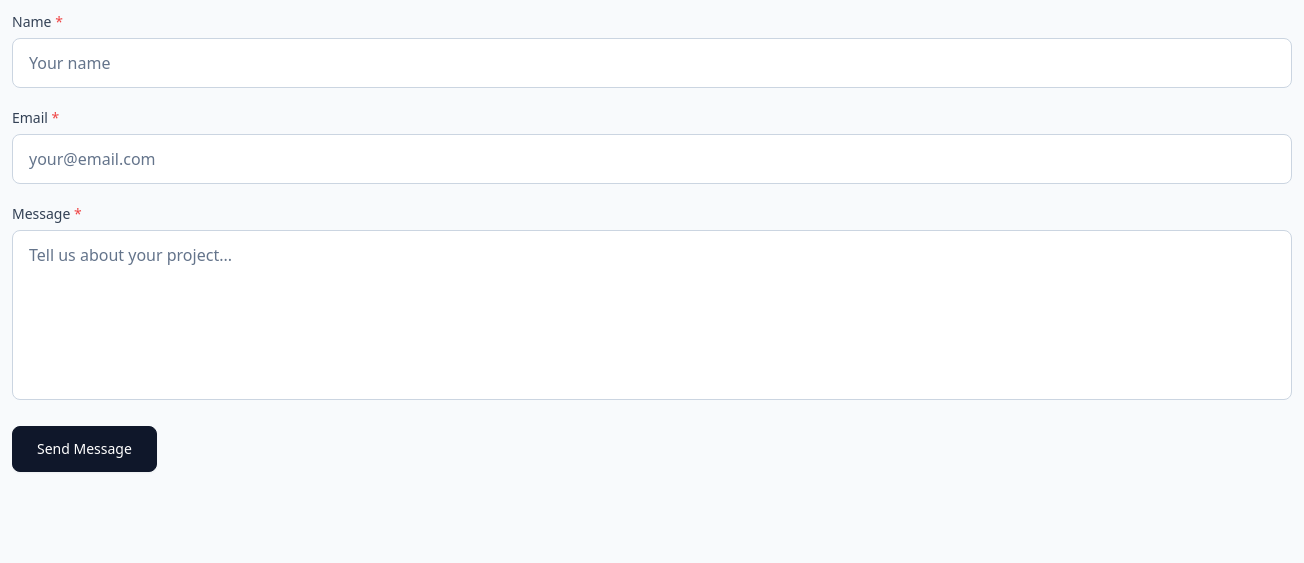
Test case: ContactForm › tracks a successful contact only after the API accepts it
In the field labelled "Name *": x=652, y=63 x1=12 y1=38 x2=1292 y2=88, type "Test Name"
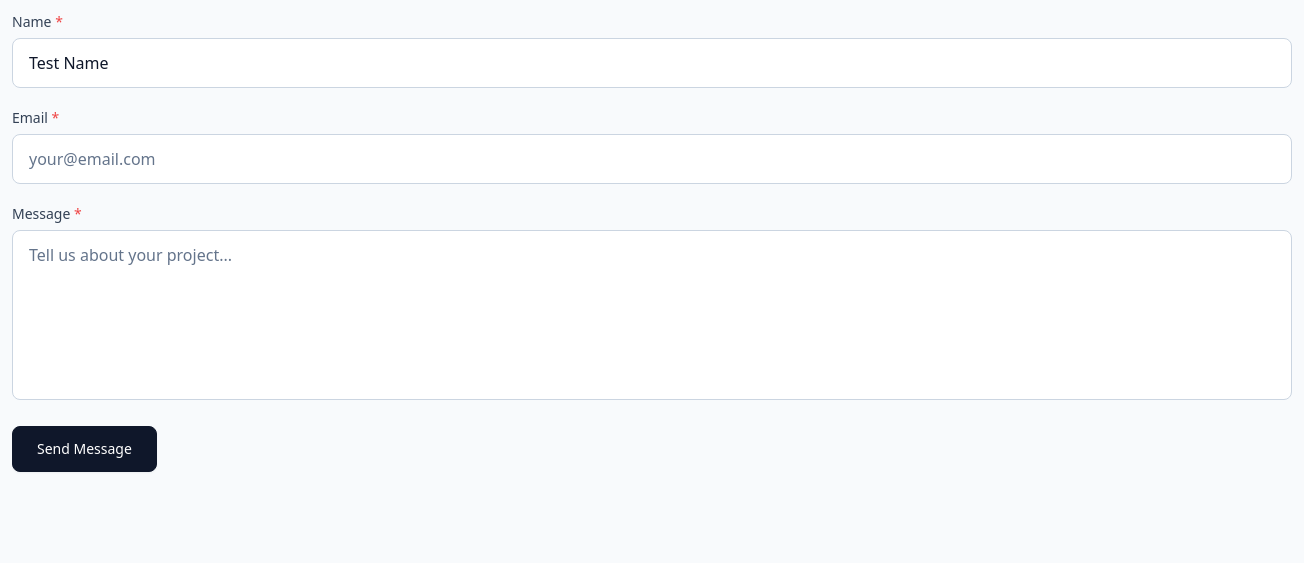
In the field labelled "Email *": x=652, y=159 x1=12 y1=134 x2=1292 y2=184, type "test@example.com"
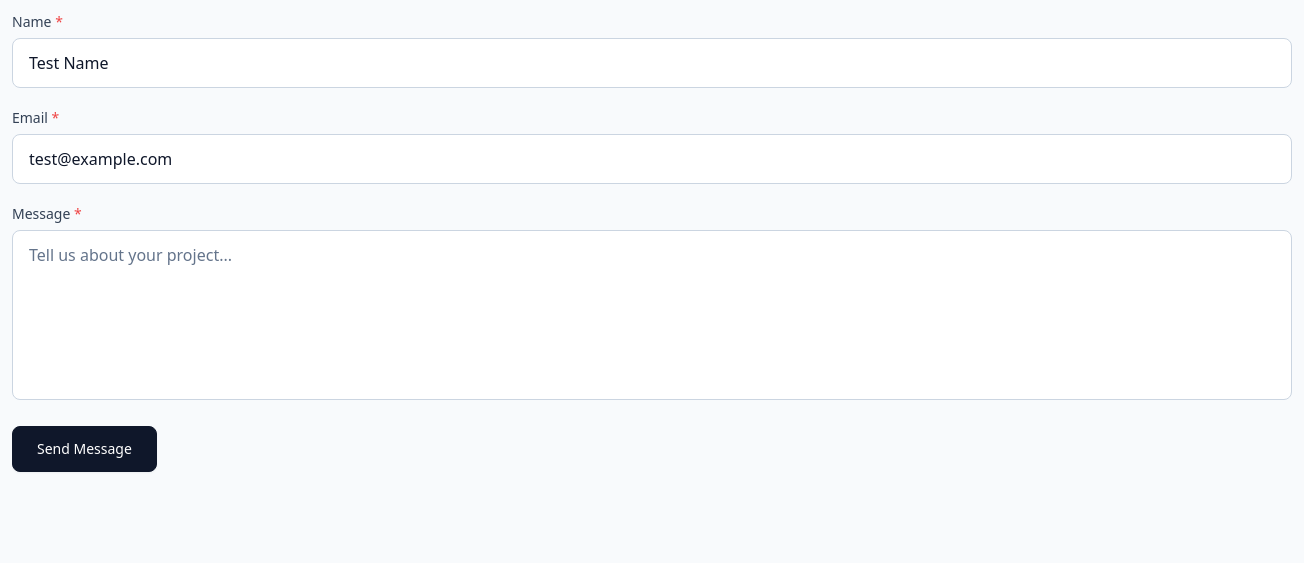
In the text box labelled "Message *": x=652, y=315 x1=12 y1=230 x2=1292 y2=400, type "A test enquiry"
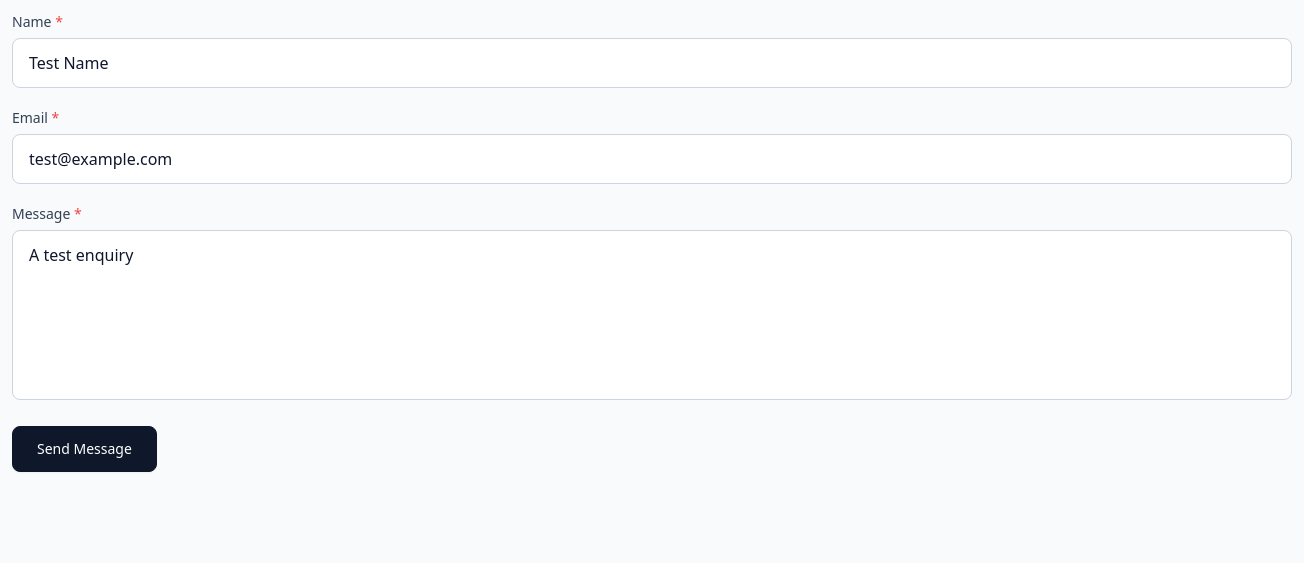
Submit the form named "contact form"
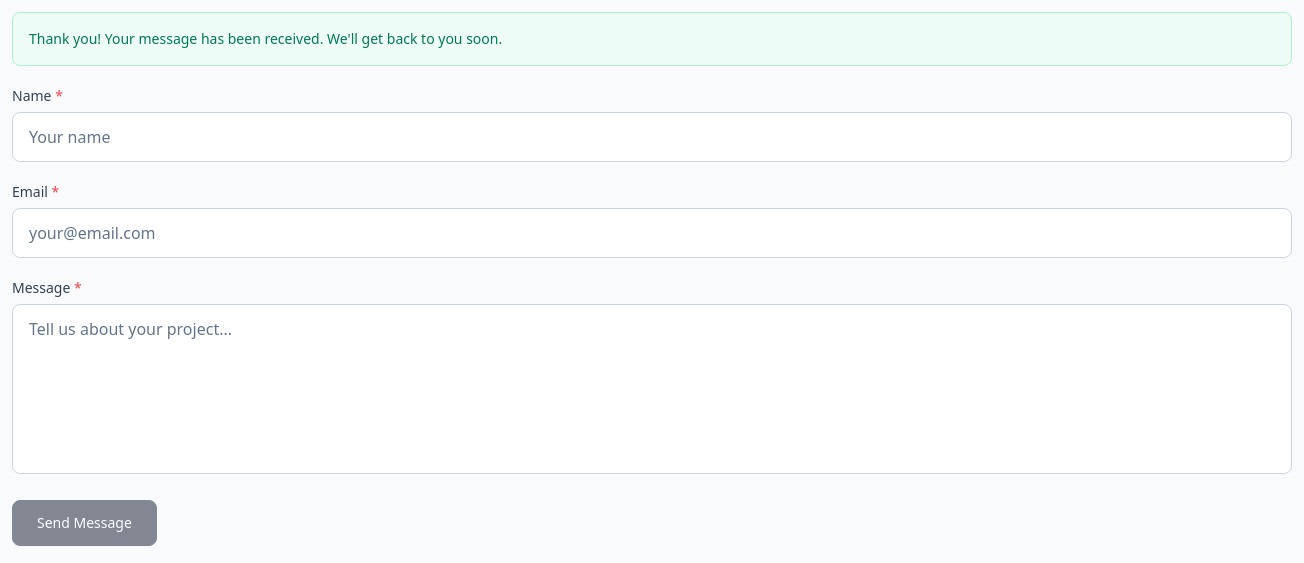
Expected: the message shows "message has been received", x1=29 y1=29 x2=502 y2=48
